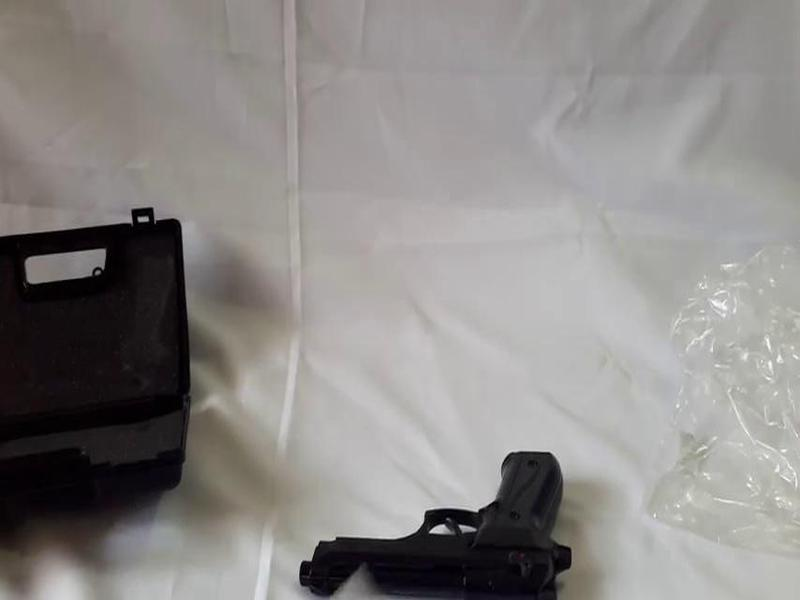Pistola: (206, 406, 608, 600)
